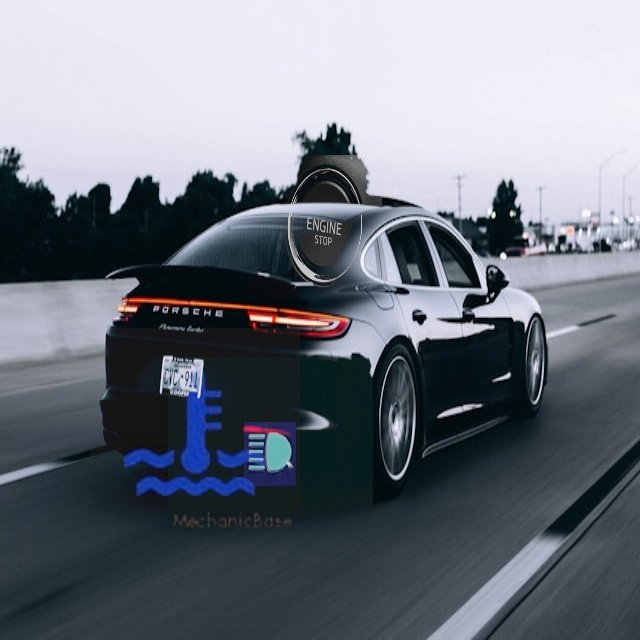symbol: (90, 328, 300, 538), (168, 357, 373, 562), (237, 155, 382, 300)
